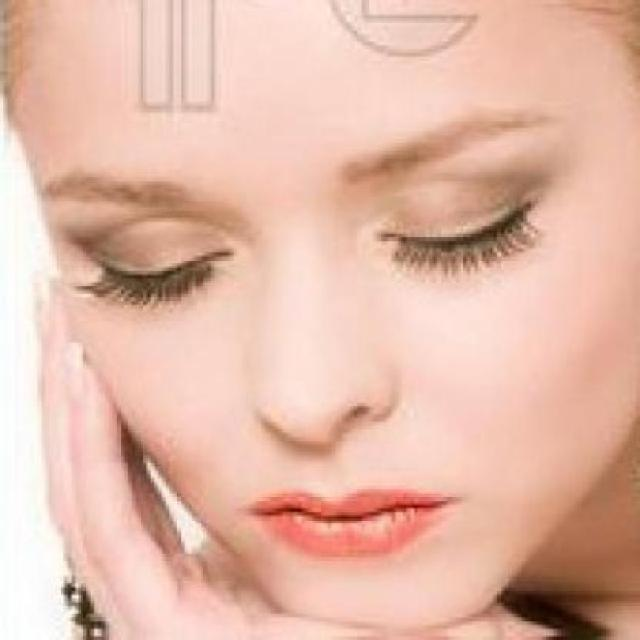drowsy: (374, 195, 548, 270), (92, 238, 232, 308)
